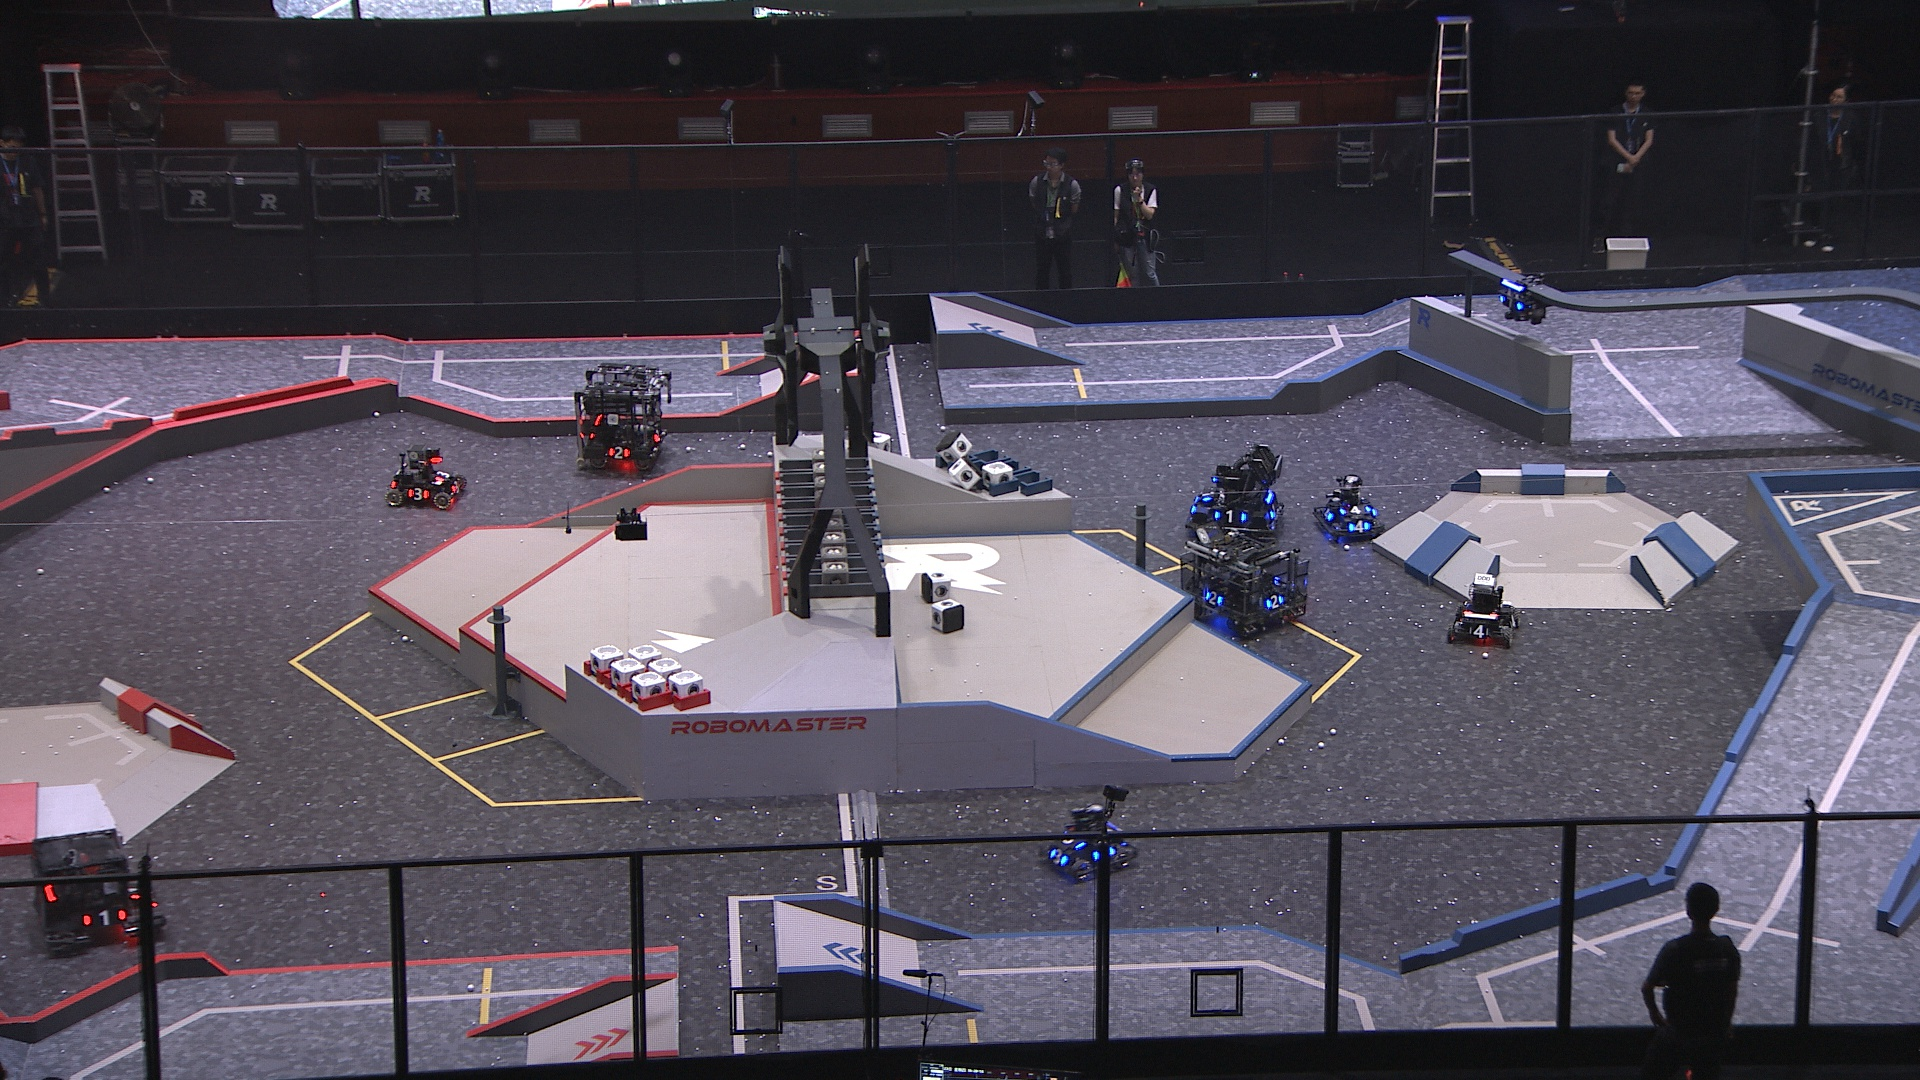armor: (79, 906, 128, 930), (1499, 289, 1528, 314), (1048, 844, 1069, 866), (125, 882, 142, 909), (1263, 591, 1286, 611), (1215, 508, 1242, 524), (607, 444, 632, 462), (1059, 828, 1081, 847), (1466, 624, 1491, 640), (1346, 520, 1370, 534), (407, 485, 429, 501), (1342, 502, 1367, 514), (1205, 589, 1221, 608), (433, 467, 451, 483), (448, 479, 465, 495), (1506, 611, 1518, 632), (1269, 500, 1280, 520), (1201, 487, 1215, 504), (1321, 504, 1332, 524), (651, 429, 661, 443)
car: (26, 825, 166, 953), (1174, 524, 1311, 638), (574, 360, 676, 476), (1185, 440, 1286, 541), (1043, 804, 1134, 878), (381, 440, 468, 514), (1313, 471, 1389, 549), (1444, 578, 1520, 650)
watcher: (1494, 272, 1553, 324)
